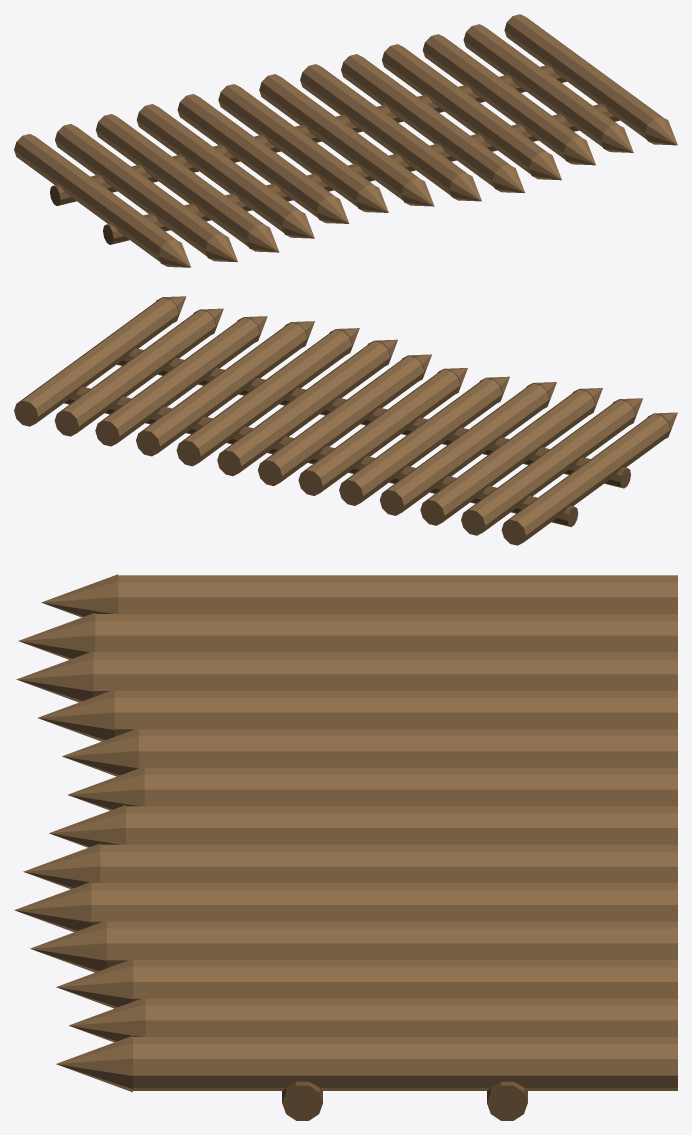
The model's file is palisade_straight.glb.
3 views of the same model, one above another, from view 1: azimuth 30°, elevation 25°; view 2: azimuth 150°, elevation 25°; view 3: azimuth 270°, elevation 25° (orthographic). The views are drawn at different scales.
Parts seen in each view (by area): view 1: world; view 2: world; view 3: world.
Boxes of the visible parts, x1,y1,x2,y2 form: world: (14,14,677,267); world: (14,296,677,545); world: (14,574,677,1120).
Size of the model in its own units: 5.1 by 0.3254 by 2.92.
